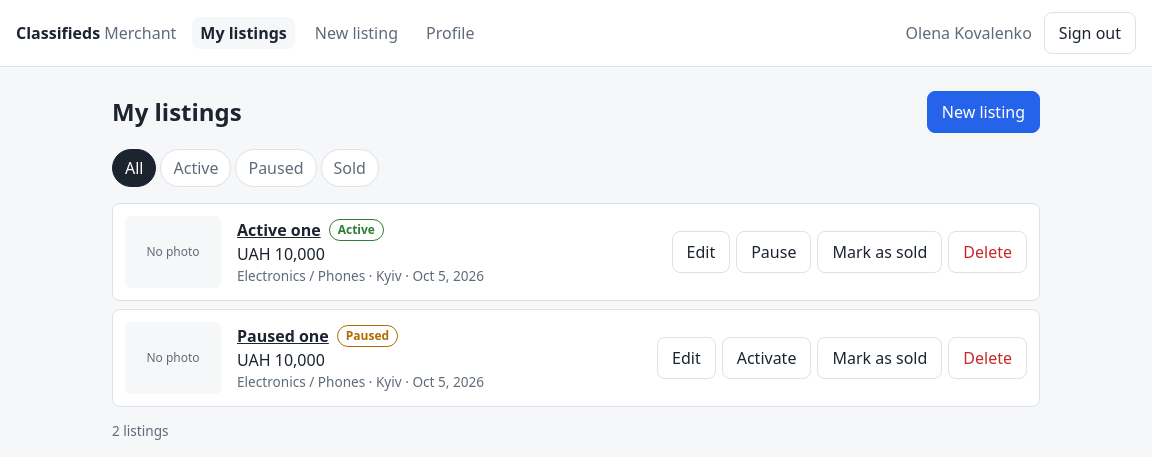
Test case: my listings page › filters by status through the URL
Expected: the list item "Active one" is shown, [112,203,1040,301]
Click the button "Paused": (276, 168) [236,149,317,187]
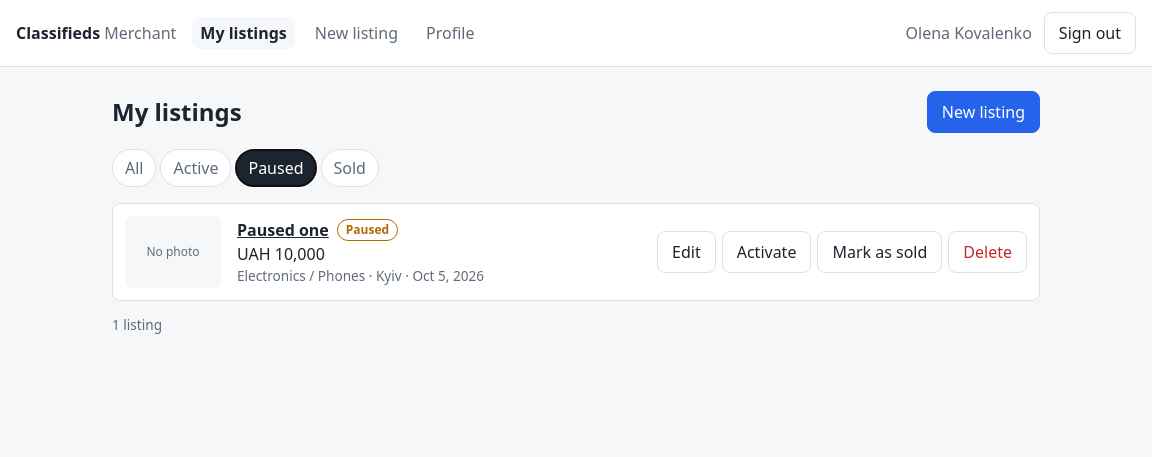
Expected: the list item "Paused one" is shown, [112,203,1040,301]
Expected: the link "Active one" is gone
Click the button "Sold": (350, 168) [320,149,379,187]
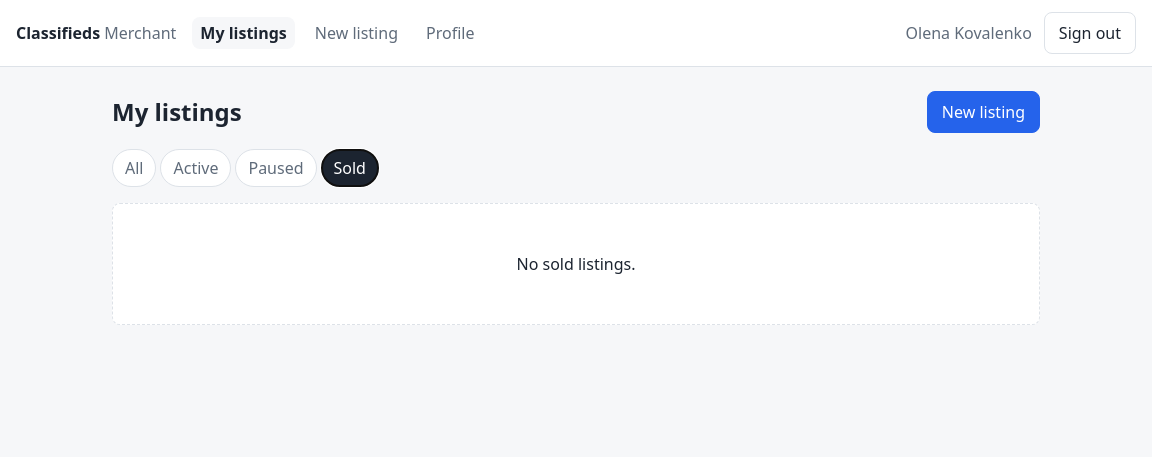
Expected: the text "No sold listings." is shown, [516,253,636,275]
